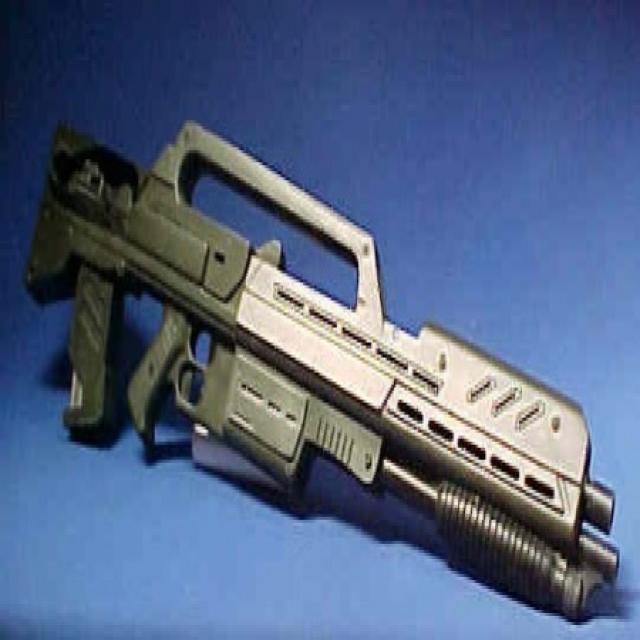rifle: (19, 83, 624, 640)
